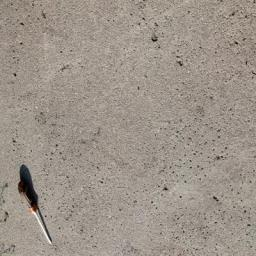FOD: (16, 166, 56, 249)
